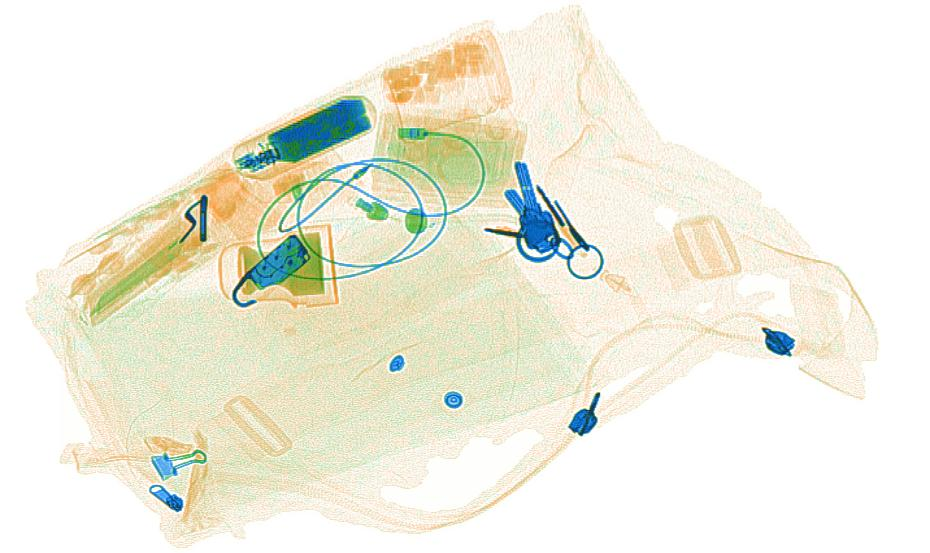seal: (238, 231, 327, 299)
